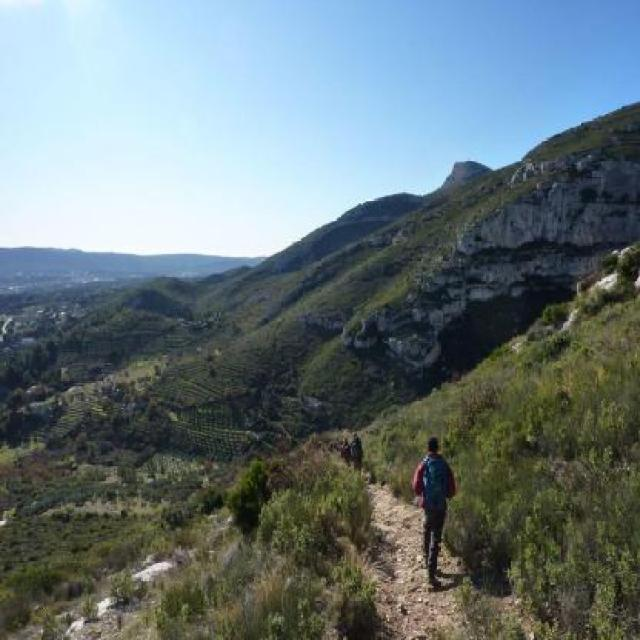backpack: (422, 455, 448, 508)
